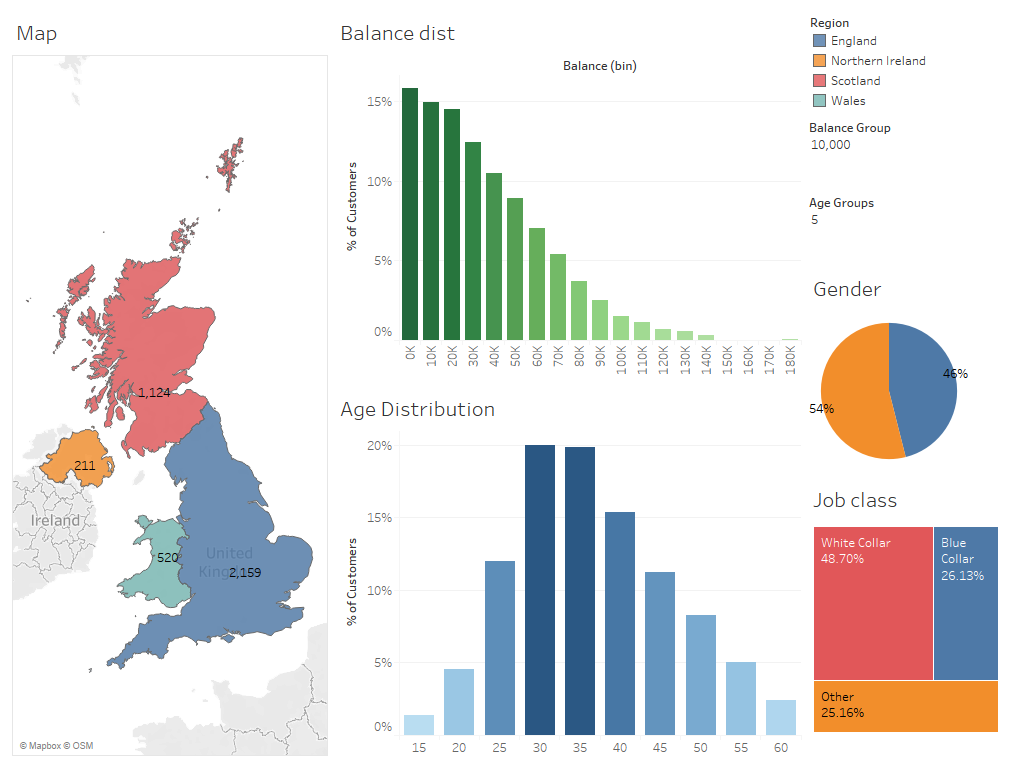

The dashboard page shown, as its layout file describes it:
{"tool":"tableau","page":{"name":"Dashboard 1","canvas":[1024,768],"ordinal":0},"visuals":[{"type":"worksheet","title":"Map","mark":"Multipolygon","box":[8,8,324.1,752]},{"type":"worksheet","title":"Balance dist","mark":"Automatic","rows":["Number of Records"],"cols":["Balance (bin)"],"box":[332.1,8,473,376]},{"type":"legend","title":"Map","param":"[federated.0als0vj0255fz810hfyob1jdxxc9].[none:Region:nk]","box":[805,8,211,106]},{"type":"parameter","param":"[Parameters].[Balance Parameter 2]","box":[805,114,211,75]},{"type":"parameter","param":"[Parameters].[Parameter 1]","box":[805,189,211,75]},{"type":"worksheet","title":"Gender","mark":"Pie","box":[805,264,211,211]},{"type":"worksheet","title":"Age Distribution","mark":"Automatic","rows":["Number of Records"],"cols":["Age (bin)"],"box":[332.1,384,473,376]},{"type":"worksheet","title":"Job class","mark":"Automatic","box":[805,475,211,265]}]}

Visuals, with their boxes in screenshot pixels (x1, y1, x2, y2), scaled from the page's 1024x768 canvas onto the 1024x768 screenshot:
"Map" worksheet (Multipolygon marks): [x1=8, y1=8, x2=332, y2=760]
"Balance dist" worksheet: [x1=332, y1=8, x2=805, y2=384]
"Map" legend: [x1=805, y1=8, x2=1016, y2=114]
parameter: [x1=805, y1=114, x2=1016, y2=189]
parameter: [x1=805, y1=189, x2=1016, y2=264]
"Gender" worksheet (Pie marks): [x1=805, y1=264, x2=1016, y2=475]
"Age Distribution" worksheet: [x1=332, y1=384, x2=805, y2=760]
"Job class" worksheet: [x1=805, y1=475, x2=1016, y2=740]
